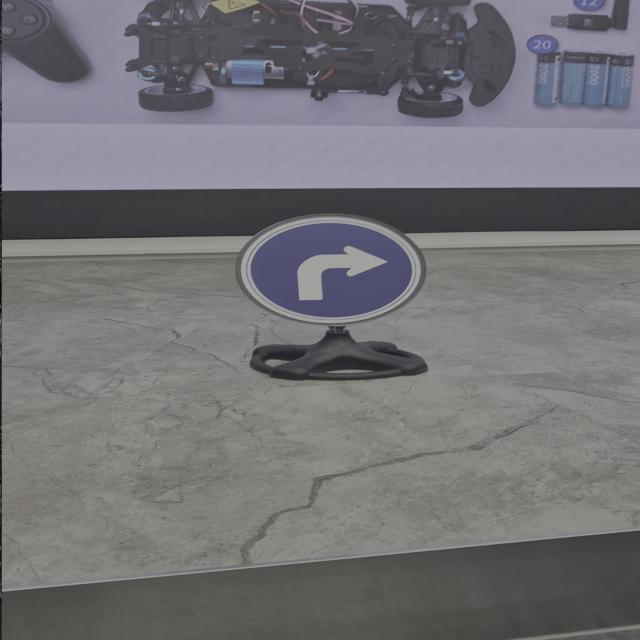right_dierection: (235, 210, 434, 324)
